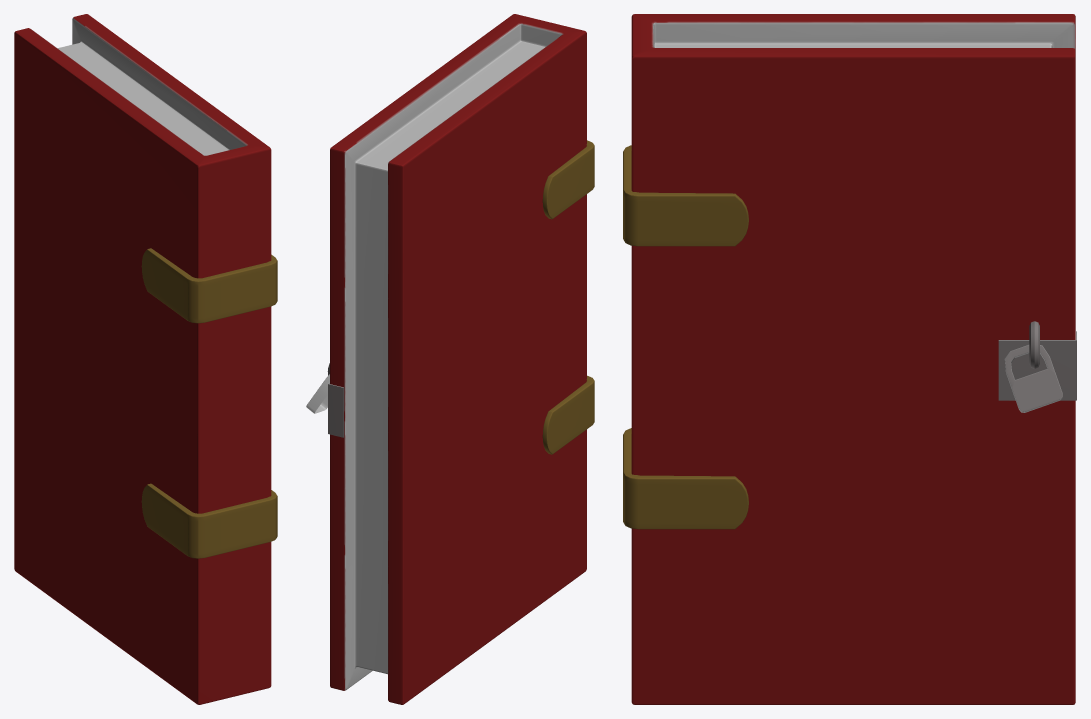
Rendered from libro.fbx.
The picture shows the model from 3 angles, left to right: view 1: azimuth 30°, elevation 25°; view 2: azimuth 150°, elevation 25°; view 3: azimuth 270°, elevation 25°; orthographic projection. The views are drawn at different scales.
Visible parts, largest first — view 1: diario; view 2: diario; view 3: diario.
Boxes of the visible parts, x1,y1,x2,y2 form: diario: [14, 14, 277, 704]; diario: [306, 14, 594, 704]; diario: [623, 14, 1076, 704].
Bounding box in the file's own units: 469 × 2096 × 1326.
